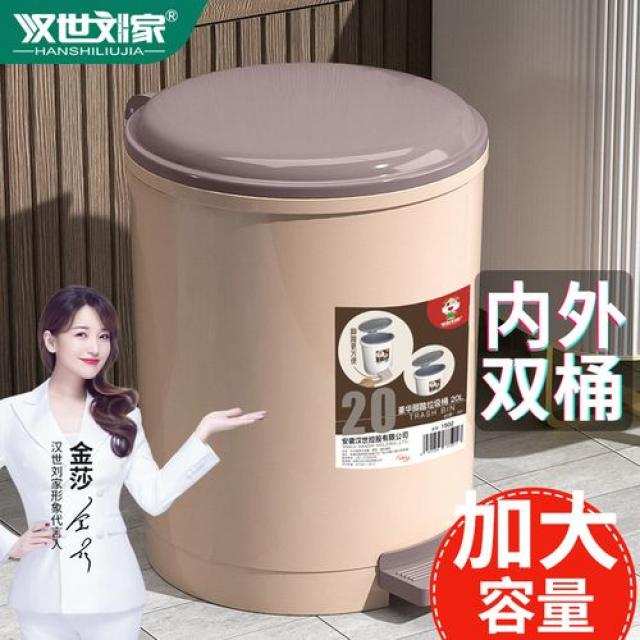Dustbin: (115, 51, 493, 624)
